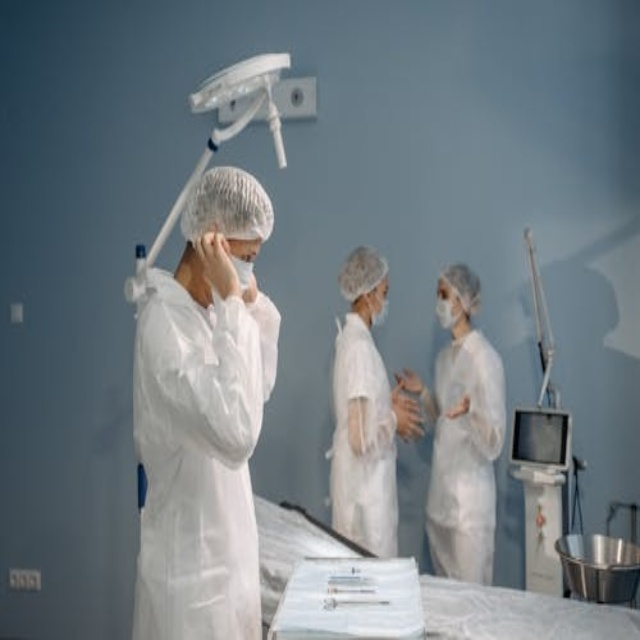Mascara: (222, 247, 255, 291), (435, 295, 461, 329), (369, 291, 389, 328)
Sin_gafas: (232, 238, 261, 264)
Sin_guantes: (390, 373, 426, 441), (444, 393, 470, 420)
